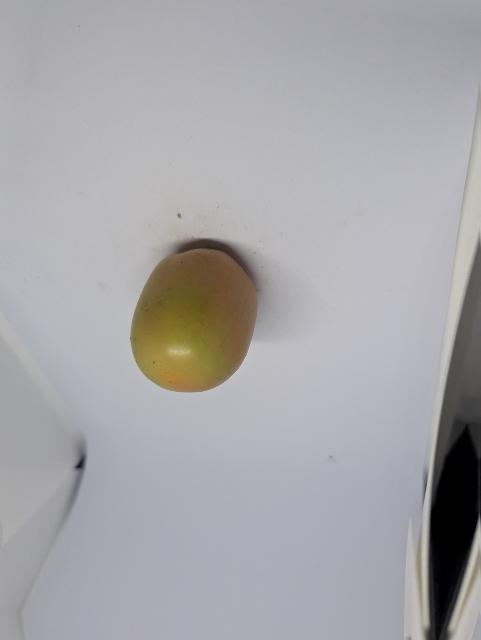turning: (127, 245, 261, 395)
